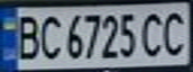2: (100, 10, 121, 60)
5: (115, 10, 142, 58)
6: (60, 10, 84, 61)
7: (78, 10, 103, 61)
B: (9, 11, 42, 61)
C: (157, 7, 193, 57), (139, 8, 169, 59), (36, 11, 63, 61)
